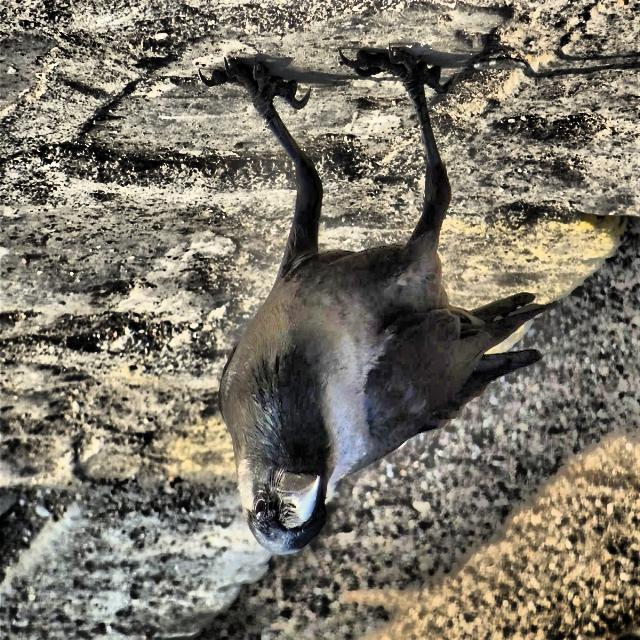crow: (200, 45, 555, 561)
